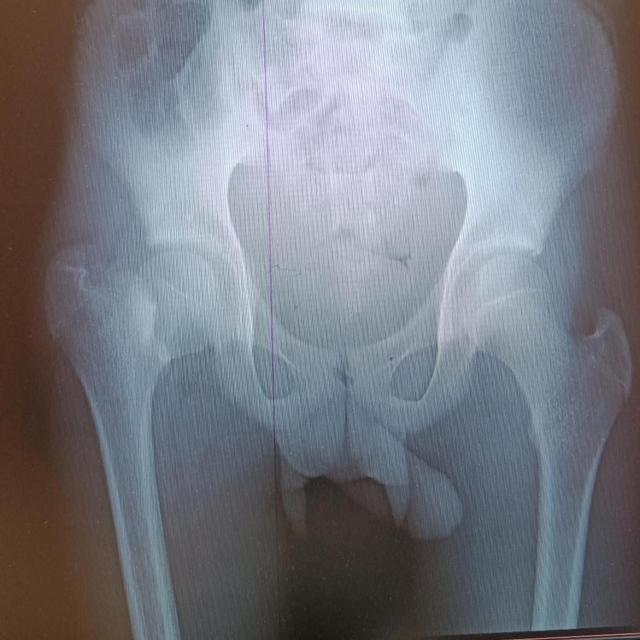normal-left: (465, 255, 631, 546)
right-neck: (45, 245, 162, 526), (138, 250, 223, 362)
